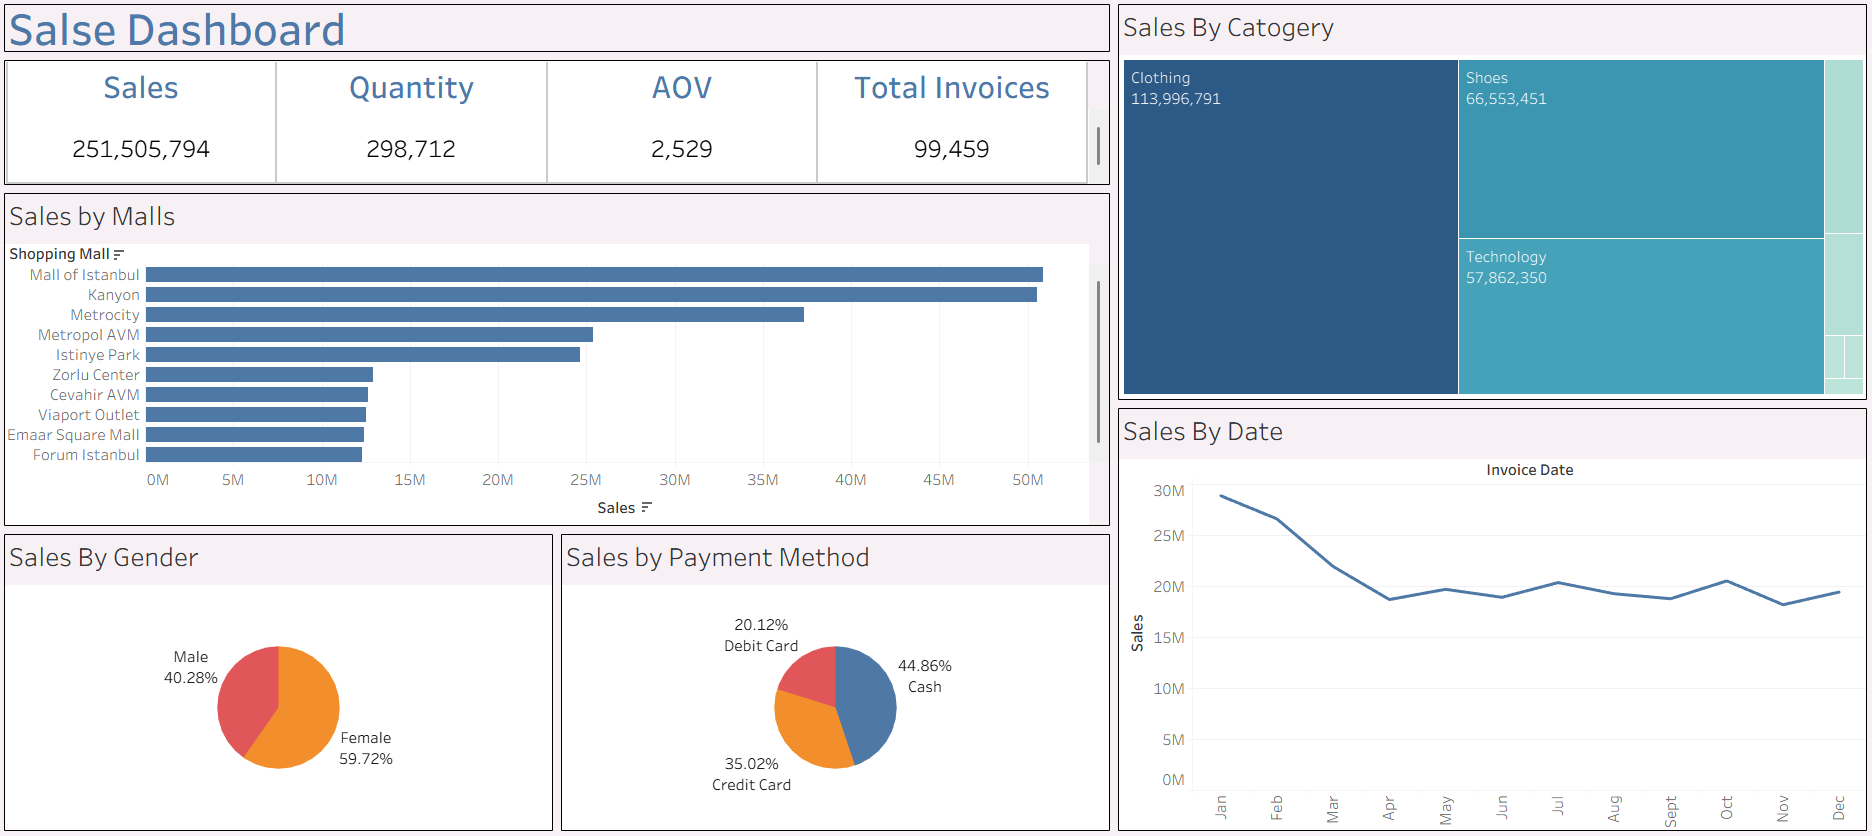

The page's visual inventory and layout, read from the dashboard file:
{"tool":"tableau","page":{"name":"Dashboard 1","canvas":[1000,1000],"units":"permille","ordinal":0},"visuals":[{"type":"text","box":[4.2,9.4,590.3,65.8]},{"type":"worksheet","title":"Sales By Catogery","mark":"Automatic","box":[594.5,9.4,401.2,474.7]},{"type":"worksheet","title":"KPI","mark":"Automatic","box":[4.2,75.2,590.3,156.3]},{"type":"worksheet","title":"Sales by Malls","mark":"Automatic","rows":["shopping_mall"],"cols":["Calculation_1307328975298560"],"box":[4.2,231.5,590.3,400.7]},{"type":"worksheet","title":"Sales By Date","mark":"Automatic","rows":["Calculation_1307328975298560"],"cols":["invoice_date"],"box":[594.5,484.1,401.2,506.5]},{"type":"worksheet","title":"Sales By Gender","mark":"Pie","box":[4.2,632.2,295.1,358.4]},{"type":"worksheet","title":"Sales by Payment Method","mark":"Pie","box":[299.4,632.2,295.1,358.4]}]}

Visuals, with their boxes on the dashboard's canvas, which has no fixed pixel size, in thousandths of its width and height (x1, y1, x2, y2). These are canvas units, not pixel positions in the 1872x836 screenshot, which may show the page scaled, cropped or inside an application window:
text: rect(4, 9, 594, 75)
"Sales By Catogery" worksheet: rect(594, 9, 996, 484)
"KPI" worksheet: rect(4, 75, 594, 232)
"Sales by Malls" worksheet: rect(4, 232, 594, 632)
"Sales By Date" worksheet: rect(594, 484, 996, 991)
"Sales By Gender" worksheet (Pie marks): rect(4, 632, 299, 991)
"Sales by Payment Method" worksheet (Pie marks): rect(299, 632, 594, 991)
